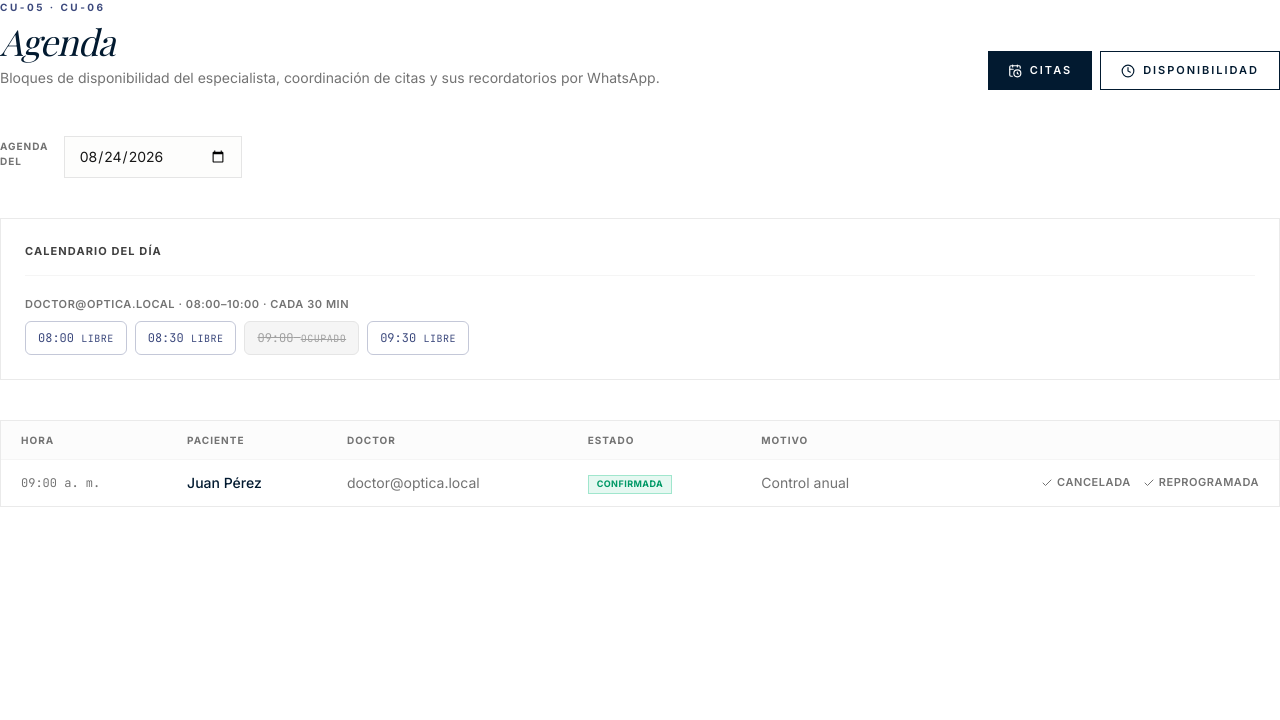
Test case: AgendaPage › 2. Alta de cita — CU-05 pasos 3, 4 y 5 › muestra el error del servidor si el cupo se ocupó mientras tanto (EX-06)
Click the button "08:30 Libre".
click(186, 338)  # box [135,321,236,355]
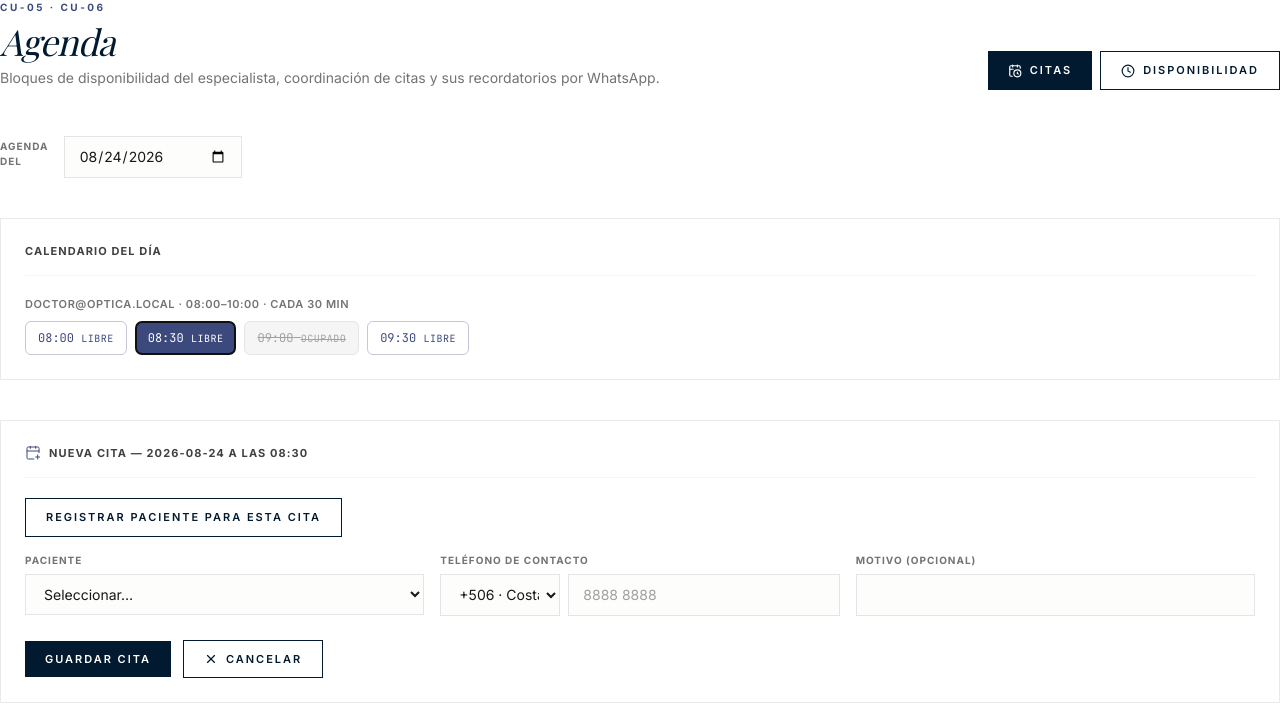
Select "Juan Pérez" in the dropdown labelled "Paciente" at coordinates (225, 594), box [25,574,424,615]
(page scrolled)
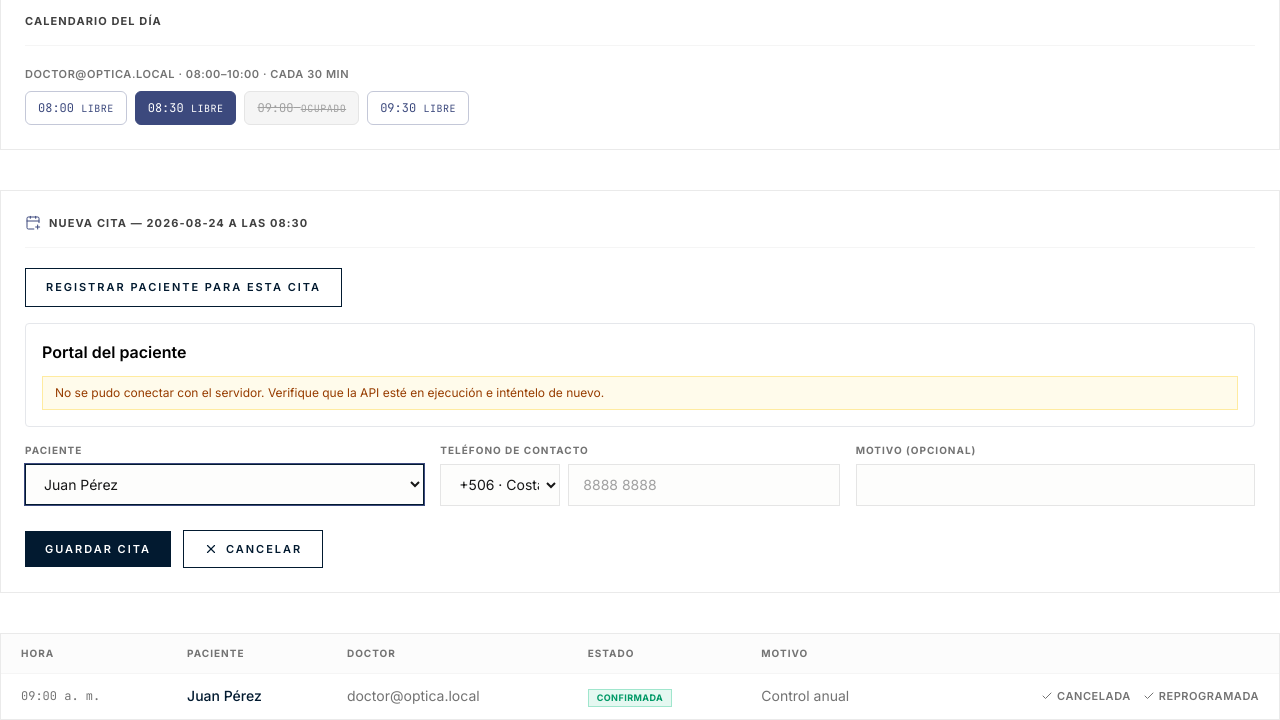
Type "8710-1122" into the field labelled "Teléfono de contacto".
click(704, 485); type("8710-1122")  # box [568,464,840,506]
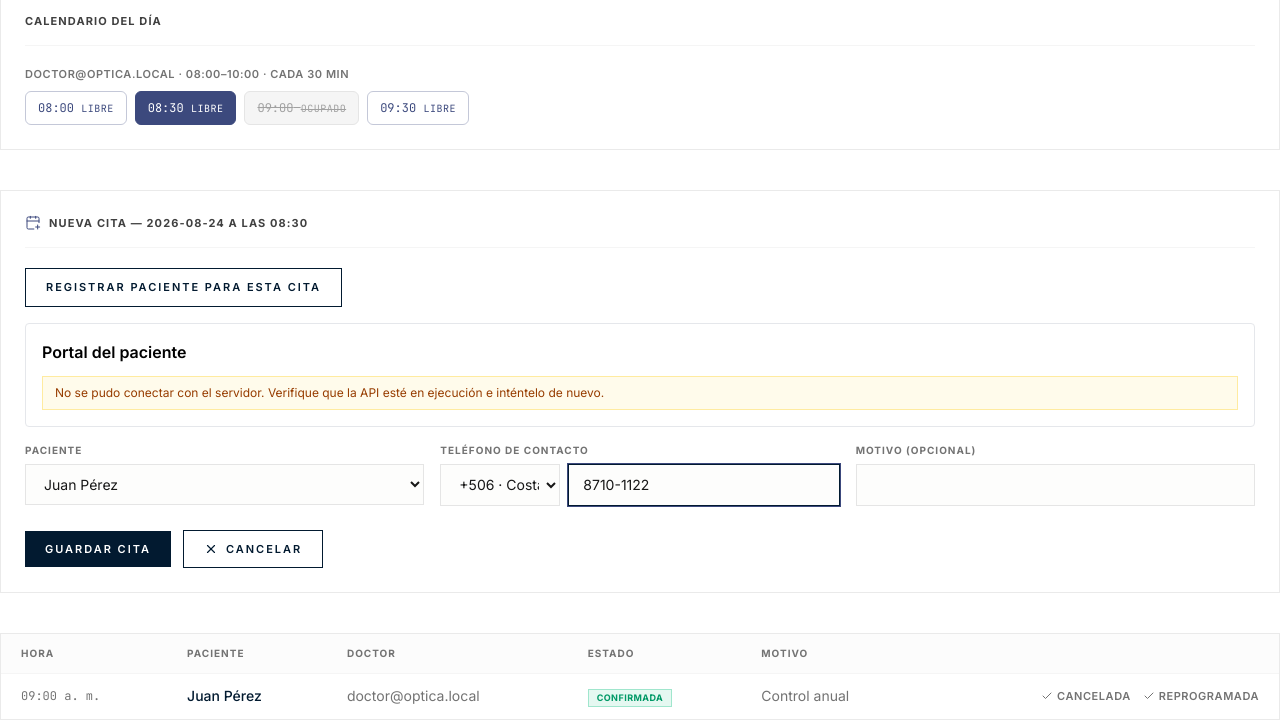
Click the button "Guardar cita".
click(98, 549)  # box [25,531,171,567]
(page scrolled)
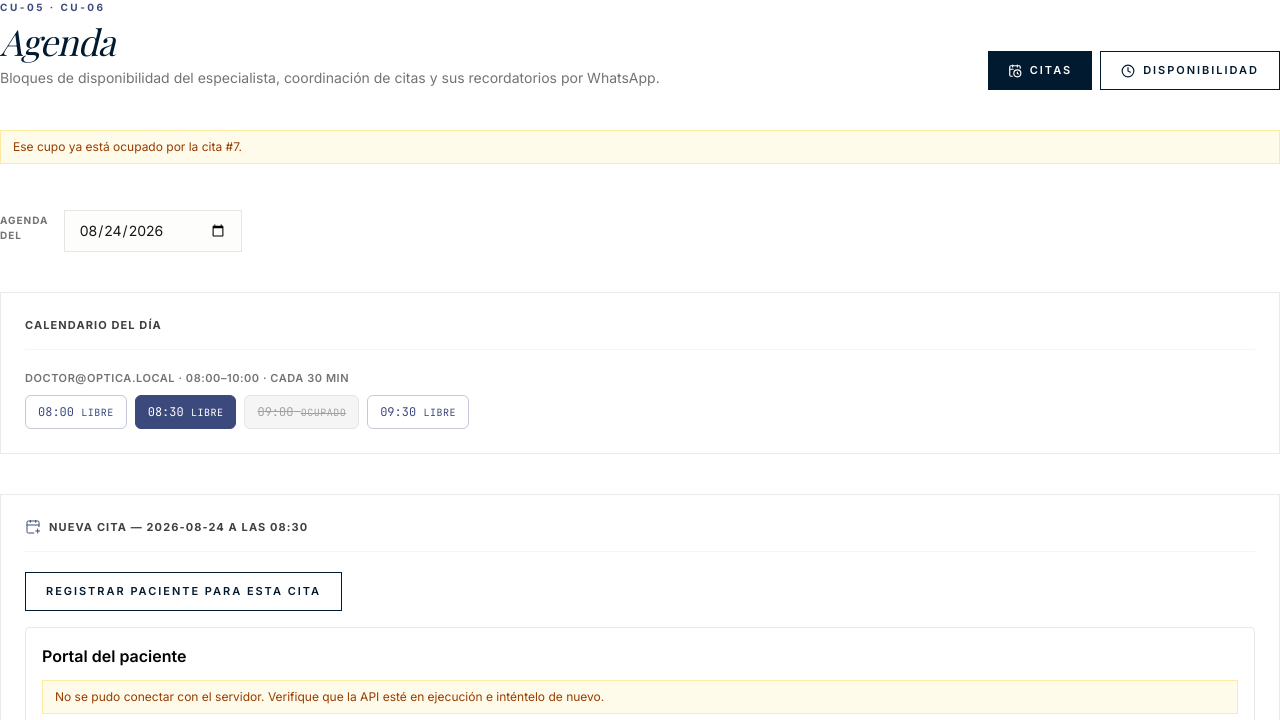
Check: the text "Ese cupo ya está ocupado por la cita #7." is shown, box [0,130,1279,164]
